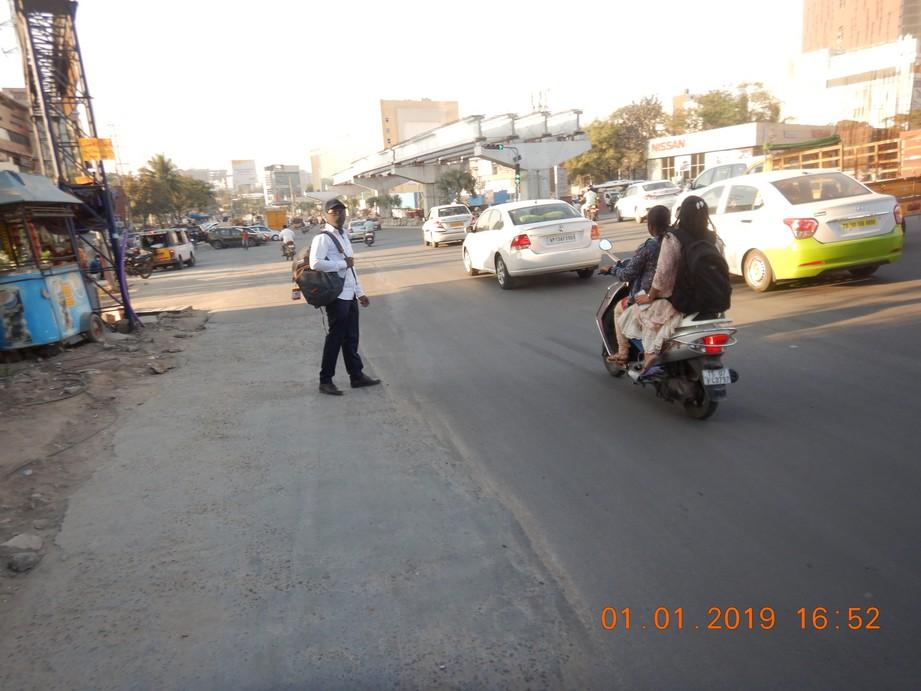plate: (704, 368, 733, 389)
